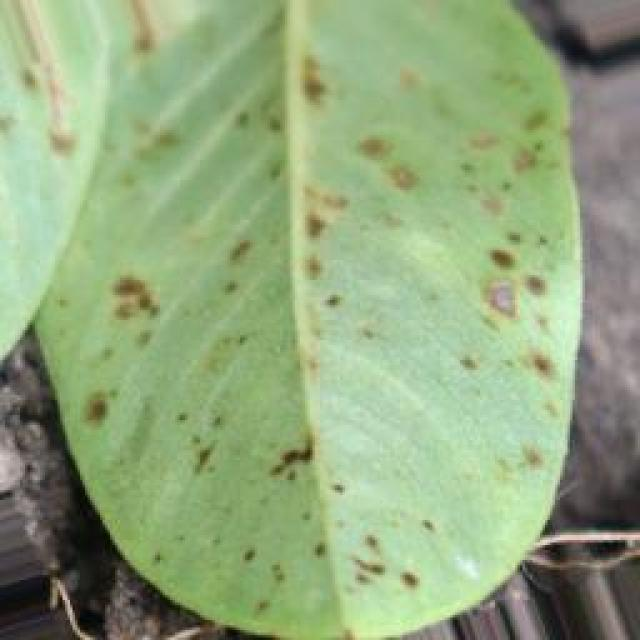Whitefly: (0, 0, 582, 567)
